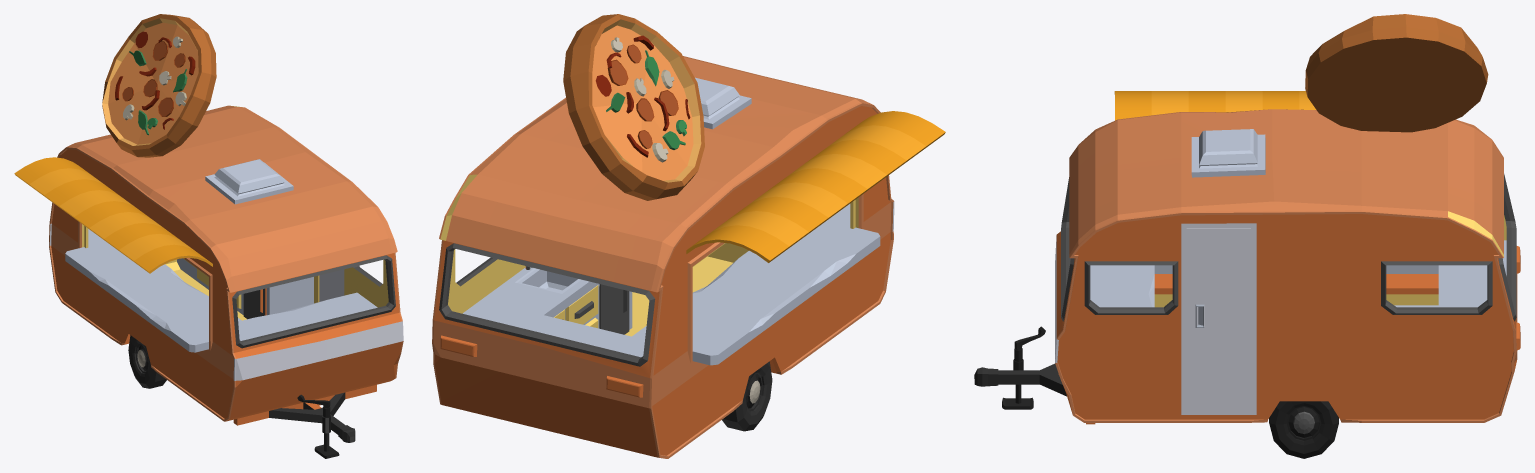
The model's file is SM_Veh_Food_Trailer_02.fbx.
3 renders of one model, left to right at view 1: azimuth 30°, elevation 25°; view 2: azimuth 150°, elevation 25°; view 3: azimuth 270°, elevation 25°, orthographic. The views are drawn at different scales.
Parts seen in each view (by area): view 1: SM_Veh_Food_Trailer_02, Mushrooms; view 2: SM_Veh_Food_Trailer_02, Mushrooms; view 3: SM_Veh_Food_Trailer_02, Mushrooms.
Part boxes in pixels (x1,y1,x2,y2): SM_Veh_Food_Trailer_02: (14,105,403,458); Mushrooms: (102,14,216,157); SM_Veh_Food_Trailer_02: (432,56,945,458); Mushrooms: (563,14,704,200); SM_Veh_Food_Trailer_02: (974,91,1520,458); Mushrooms: (1305,14,1488,132).
Bounding box in the file's own units: 331 × 441 × 548.
